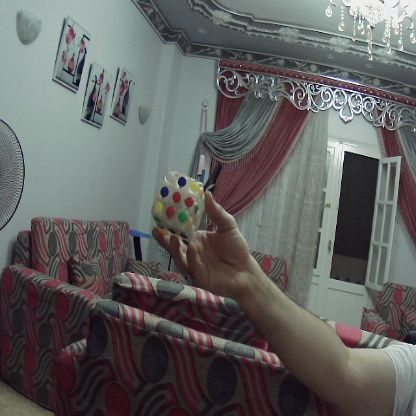Rubix Cube: (151, 169, 213, 247)
